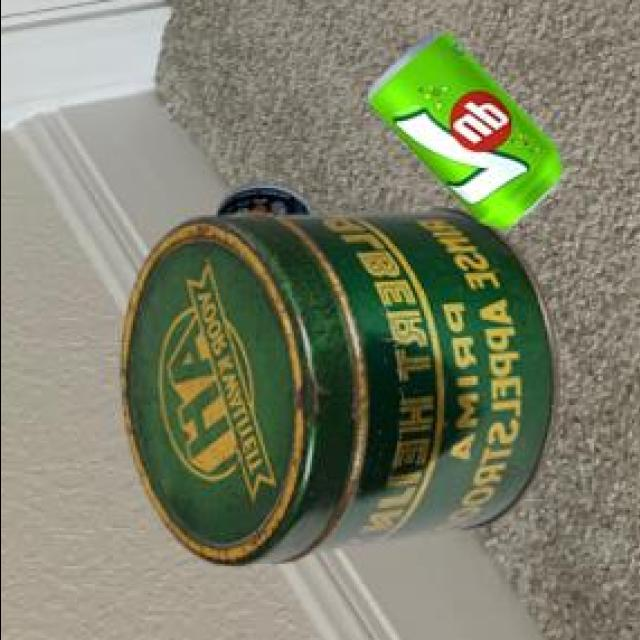logam: (117, 207, 554, 563), (366, 30, 561, 229), (214, 180, 308, 214)
